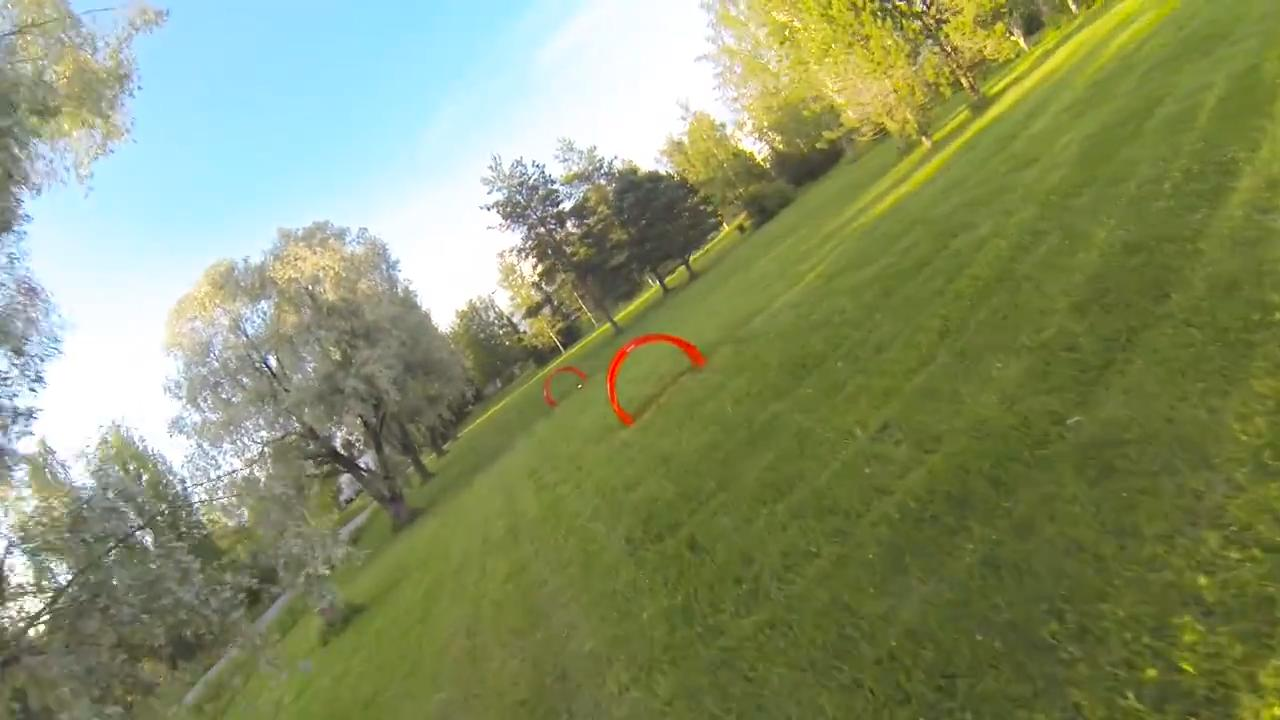gate: (603, 330, 710, 429)
